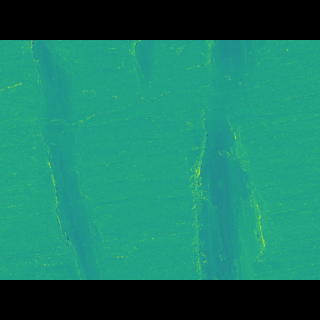Loch: (0, 69, 111, 249), (185, 69, 288, 250), (128, 69, 161, 111)
